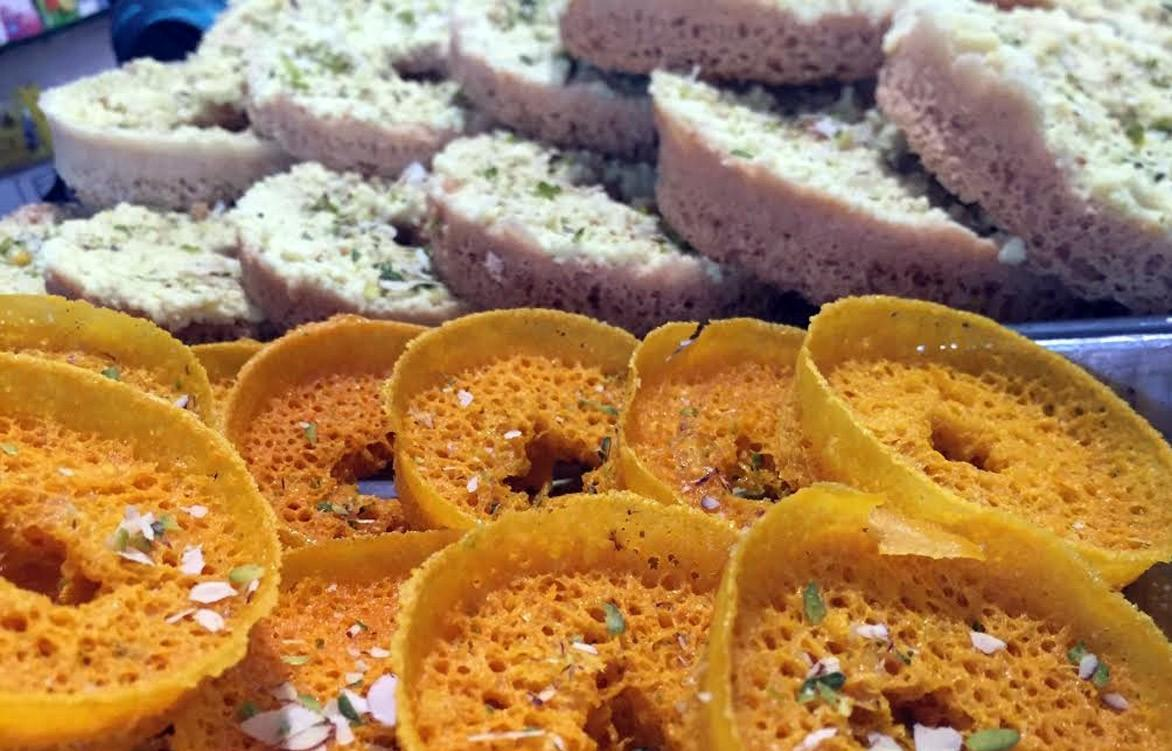Ghevar: (711, 480, 1172, 751), (789, 282, 1172, 592), (3, 344, 266, 734), (396, 492, 759, 751), (651, 74, 1032, 312), (865, 0, 1172, 286), (166, 528, 448, 751), (383, 300, 640, 542), (423, 114, 740, 302), (625, 296, 832, 562), (219, 306, 432, 558), (219, 492, 416, 751), (33, 38, 302, 194), (0, 284, 210, 480), (29, 190, 280, 342), (457, 0, 684, 134), (239, 160, 440, 310), (245, 0, 458, 136)
